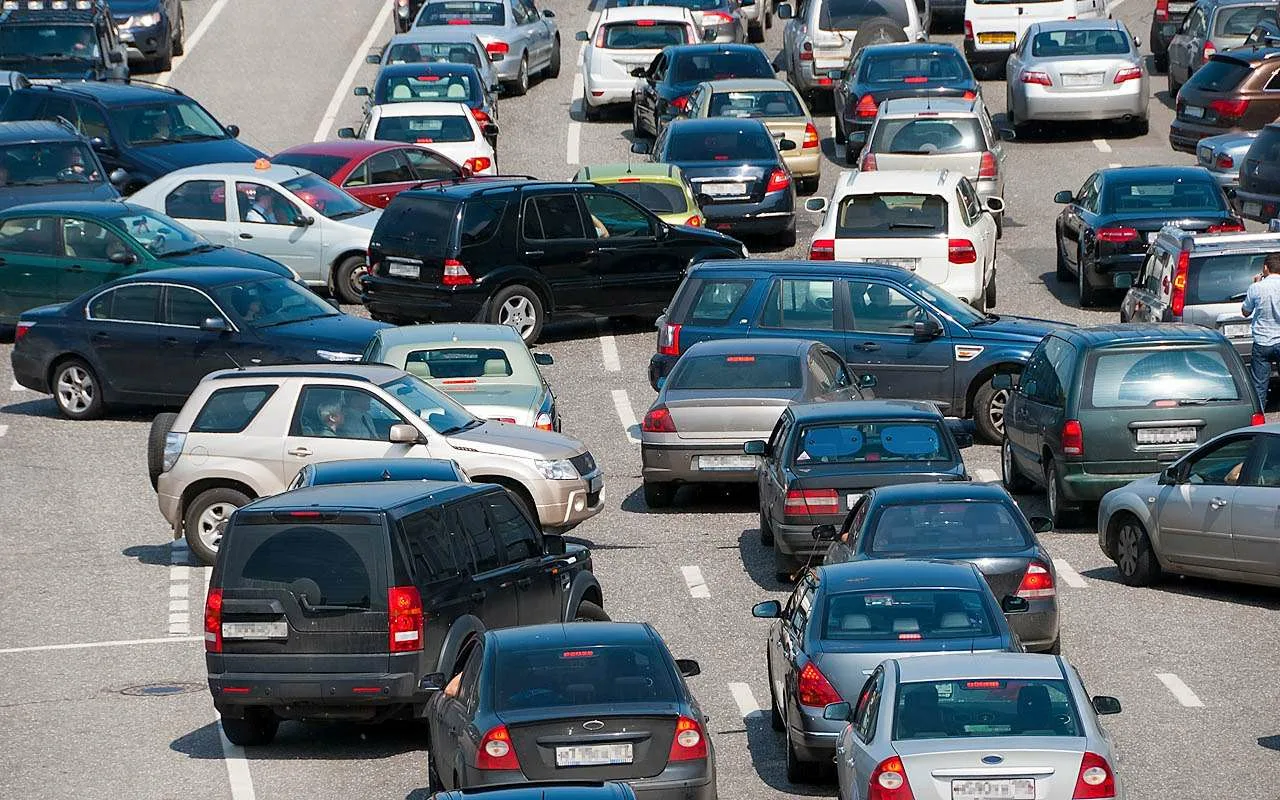Car: (203, 479, 608, 746), (147, 363, 606, 565), (649, 259, 1077, 445), (362, 175, 748, 344), (752, 558, 1029, 783), (9, 264, 398, 418), (991, 320, 1266, 528), (417, 622, 717, 800), (822, 652, 1122, 800), (812, 480, 1061, 655), (743, 397, 974, 580), (0, 202, 310, 335), (640, 339, 878, 509), (124, 161, 382, 305), (0, 76, 272, 202), (1097, 423, 1280, 589), (805, 168, 1006, 311), (1053, 163, 1246, 305), (1111, 217, 1280, 365), (361, 321, 561, 433), (632, 117, 797, 249), (825, 40, 992, 164), (663, 78, 820, 196), (849, 96, 1016, 204), (1006, 19, 1150, 135), (575, 5, 717, 119), (778, 0, 930, 103), (407, 0, 560, 95), (630, 41, 780, 137), (269, 140, 473, 209), (1168, 36, 1280, 155), (0, 115, 127, 211), (337, 101, 499, 176), (1160, 0, 1280, 97), (0, 0, 129, 85), (964, 0, 1112, 74), (353, 62, 505, 130), (571, 163, 712, 227), (366, 31, 505, 89), (616, 0, 756, 43), (287, 458, 470, 490), (107, 0, 185, 72), (1234, 120, 1280, 223), (430, 781, 638, 800), (1196, 130, 1261, 189), (1150, 0, 1196, 72), (1244, 6, 1280, 44), (742, 0, 773, 43), (0, 71, 31, 109), (393, 0, 426, 33), (931, 0, 966, 23), (914, 0, 932, 33), (487, 135, 499, 175), (992, 209, 1005, 239), (489, 94, 499, 120)
